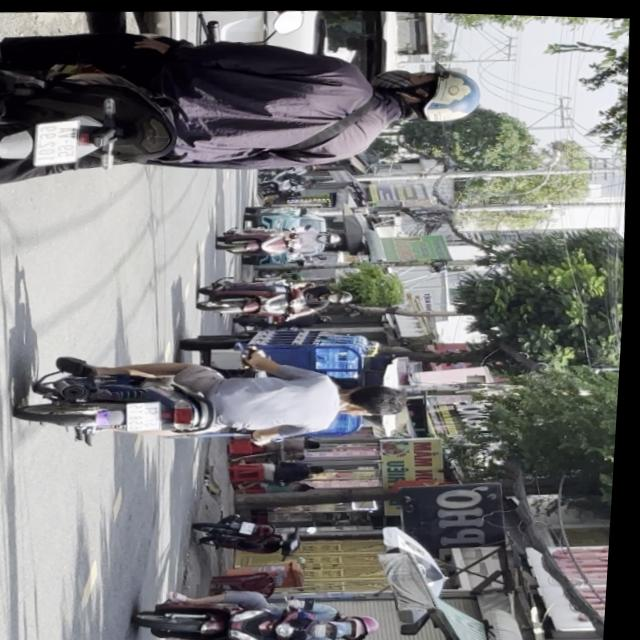helmet: (380, 61, 486, 123), (342, 610, 388, 639)
licenseplate: (0, 2, 495, 203), (17, 339, 407, 456), (138, 577, 391, 640)
motorcyclist: (343, 379, 402, 415), (314, 613, 357, 639)
nohelmet: (37, 120, 82, 165), (131, 400, 167, 430)
